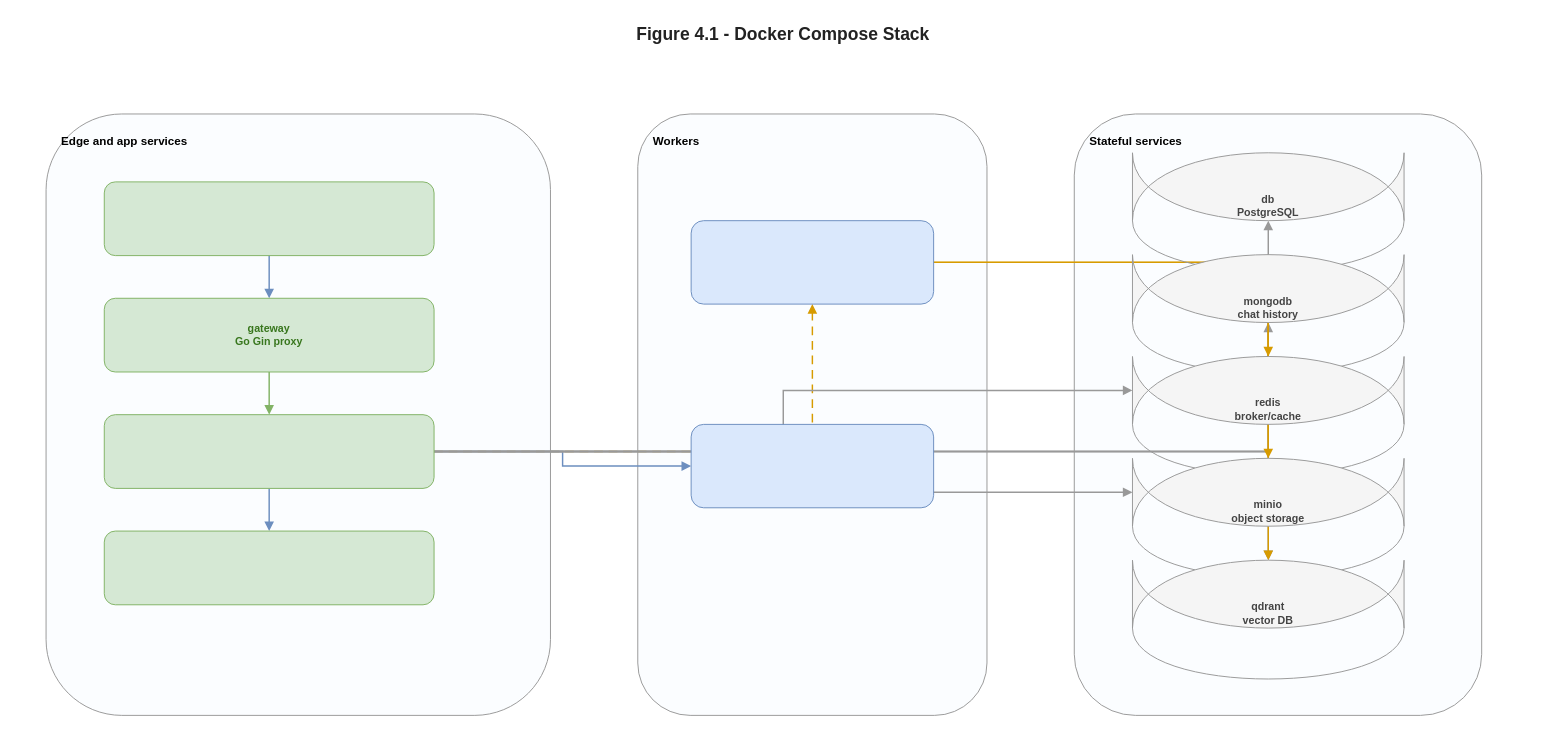
Some shapes in this 1566 by 732 pixel diagram are drawn without their labels. Here are the shapes that lost their labels. From the top down, the centre of each, then its label:
pixel 268 218: frontend React/Vite
pixel 812 262: celery_worker document tasks, KG
pixel 268 451: backend FastAPI
pixel 812 465: fb-channel-worker Messenger bridge
pixel 268 567: opendataloader-hybrid Doc parsing
